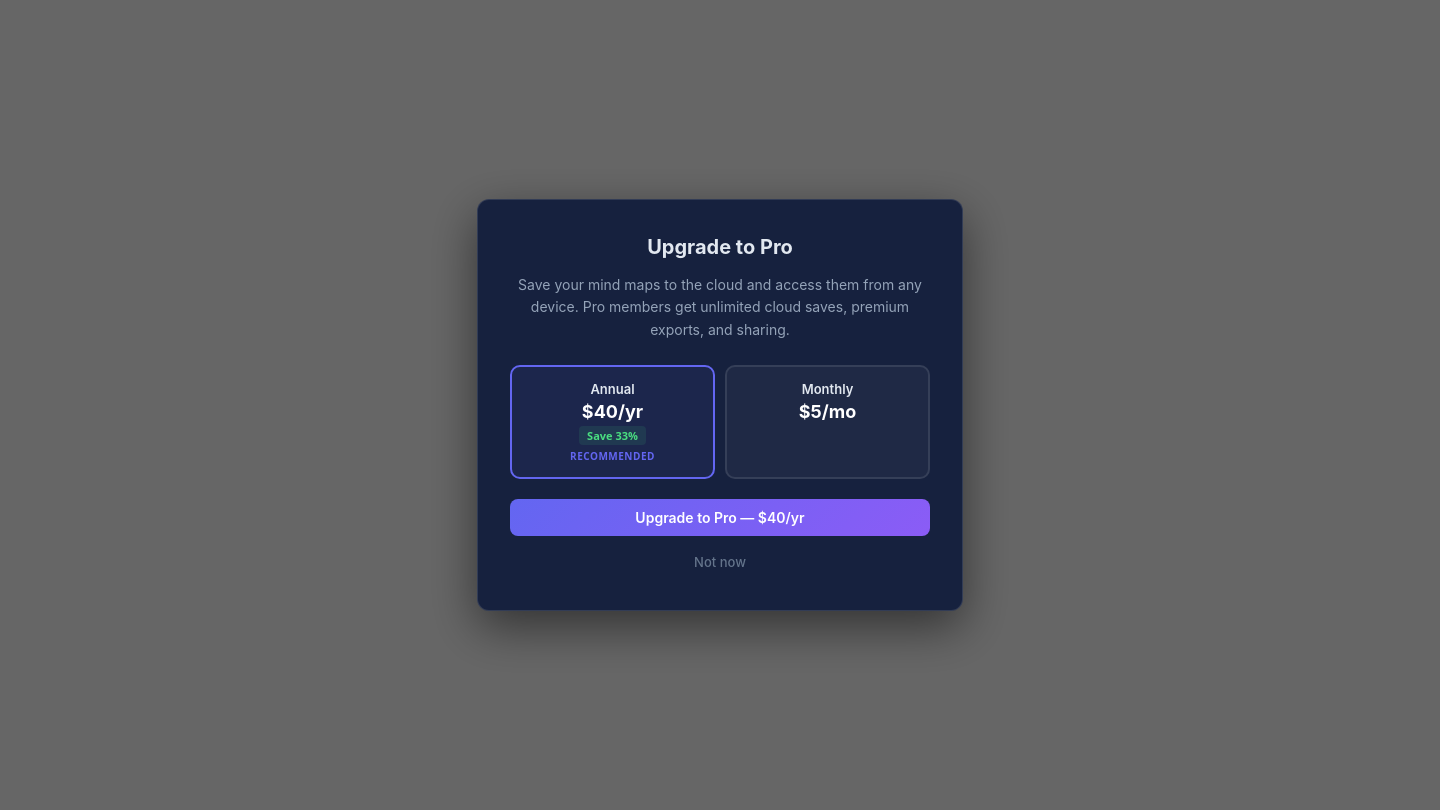
it: UpgradeModal › shows loading state during checkout creation
expect the text "Annual" is shown: met, box 590,381 -> 635,397
Step 1. Click the button "Upgrade to Pro — $40/yr" → (720, 518), box 510,499 -> 930,536
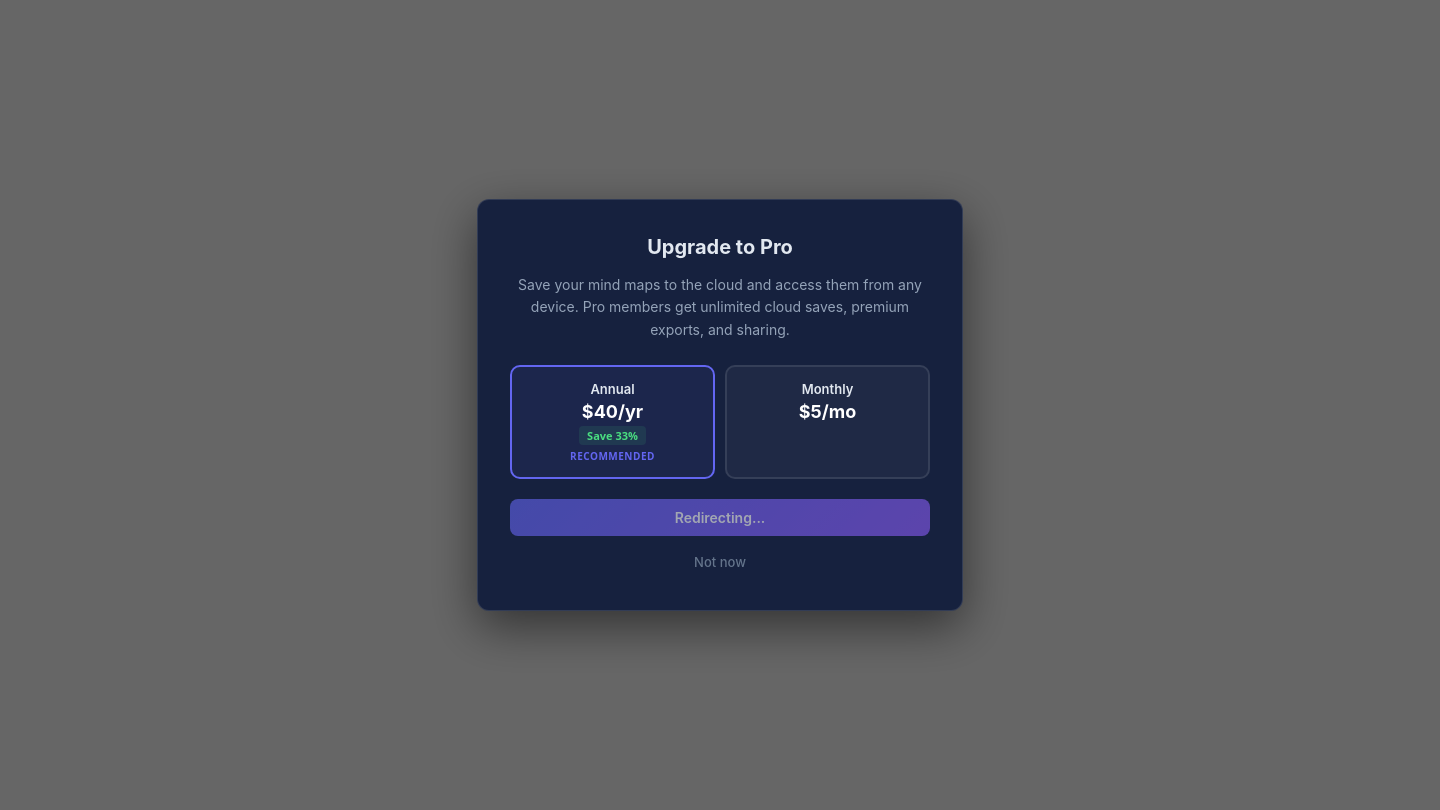
expect the button "Redirecting..." is shown: met, box 510,499 -> 930,536
